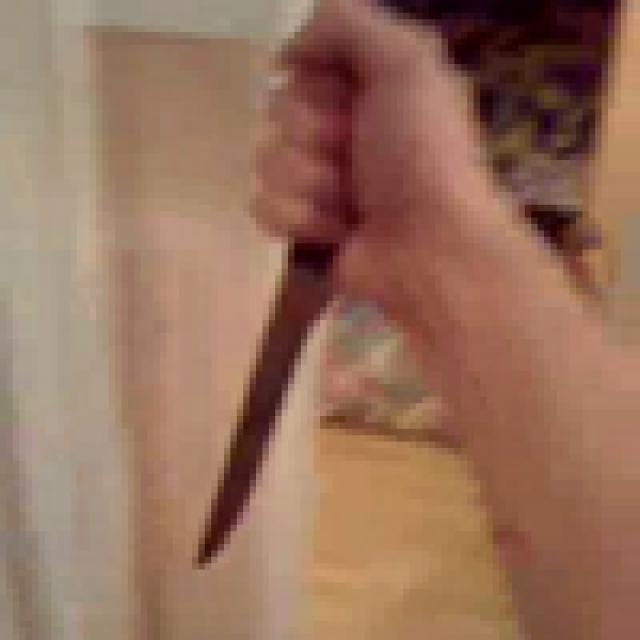Knife: (186, 26, 364, 570)
